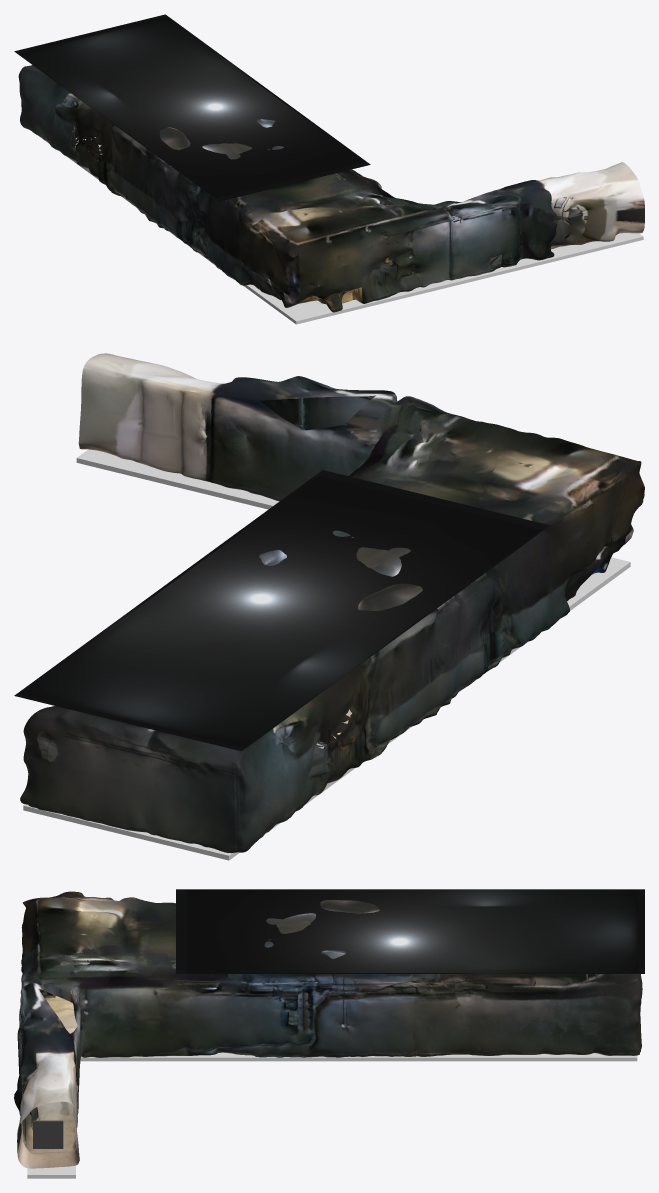
File: vectai_room.glb
3 renders of one model, top to bottom at view 1: azimuth 30°, elevation 25°; view 2: azimuth 150°, elevation 25°; view 3: azimuth 270°, elevation 25°, orthographic. The views are drawn at different scales.
Visible parts, largest first — view 1: 3DModel, walls.004, floor; view 2: 3DModel, walls.004, floor; view 3: 3DModel, walls.004, floor, ramka.
Part boxes in pixels (x1,y1,x2,y2): 3DModel: (18, 65, 644, 312); walls.004: (14, 14, 370, 201); floor: (39, 136, 643, 324); 3DModel: (20, 353, 644, 853); walls.004: (14, 470, 549, 751); floor: (23, 449, 630, 860); 3DModel: (14, 891, 642, 1168); walls.004: (176, 889, 644, 973); floor: (27, 1052, 637, 1178); ramka: (33, 1120, 63, 1148).
Bounding box in the file's own units: 18.99 × 4.06 × 25.24.
14 materials, 11 textured.
